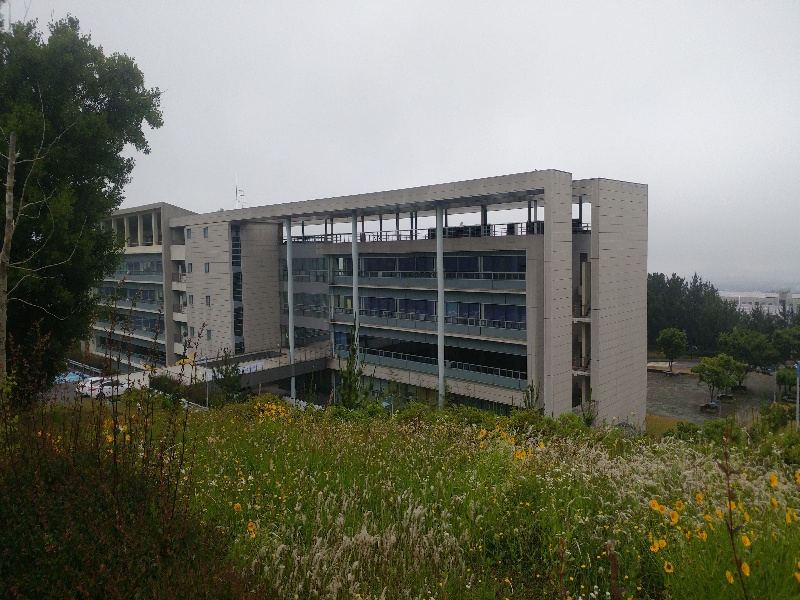Engineering College Building 4: (115, 172, 652, 441), (130, 190, 637, 427)
